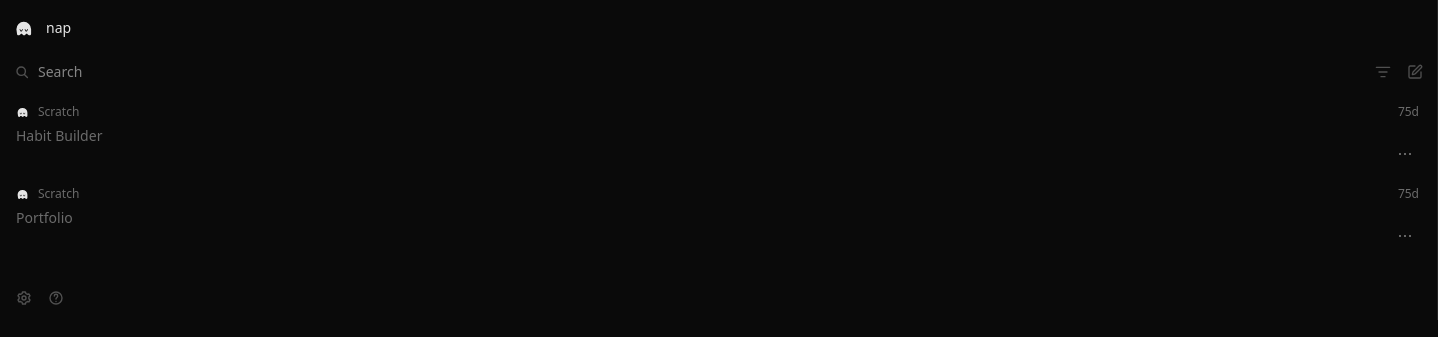
Test: the dashboard sidebar › searches the sessions in the sidebar
In the field named "Search sessions": (698, 72) x1=38 y1=62 x2=1357 y2=82, type "portfolio"
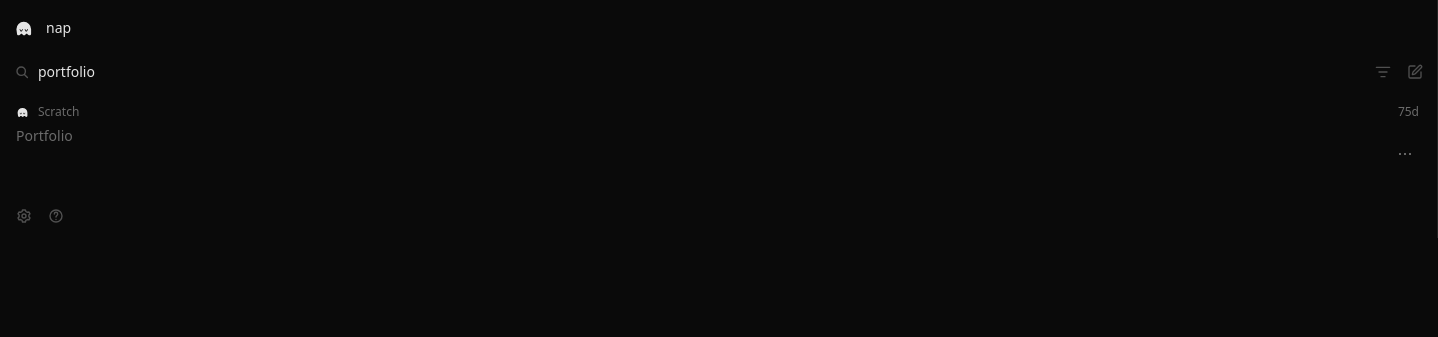
Expected: the link "Scratch 75d Portfolio" is shown, x1=16 y1=103 x2=1419 y2=145
Result: the link "Habit Builder" is gone
